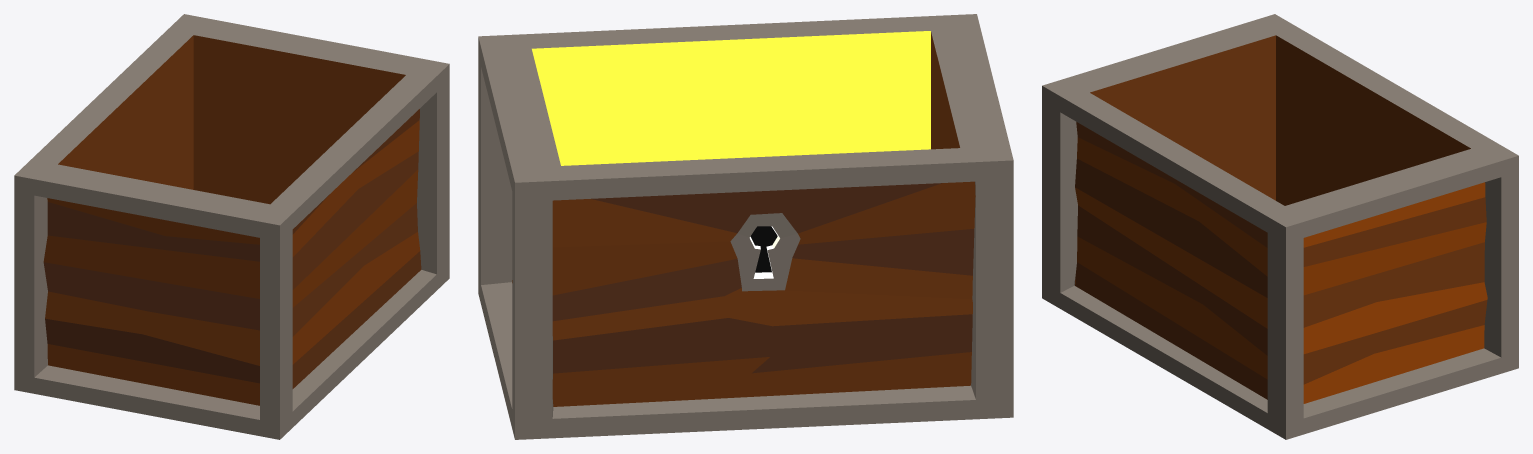
Rendered from Kiste.glb.
3 renders of one model, left to right at view 1: azimuth 30°, elevation 25°; view 2: azimuth 150°, elevation 25°; view 3: azimuth 270°, elevation 25°, orthographic. The views are drawn at different scales.
Visible parts, largest first — view 1: Kiste.001; view 2: Kiste.001; view 3: Kiste.001.
Boxes of the visible parts, x1=… form: Kiste.001: x1=14, y1=14, x2=449, y2=439; Kiste.001: x1=478, y1=14, x2=1013, y2=439; Kiste.001: x1=1042, y1=14, x2=1518, y2=439.
Size of the model in its own units: 6.18 by 2.87 by 5.84.
1 material, 1 textured.
